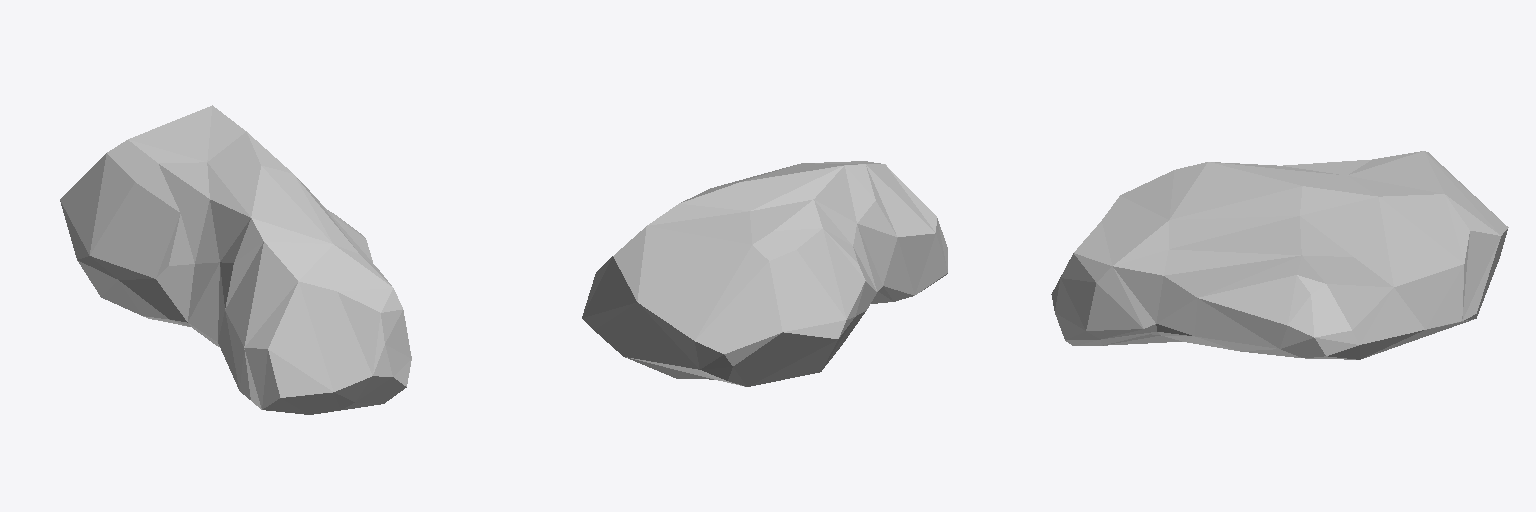
The model's file is rock5.obj.
3 views of the same model, side by side, from view 1: azimuth 30°, elevation 25°; view 2: azimuth 150°, elevation 25°; view 3: azimuth 270°, elevation 25° (orthographic).
Parts seen in each view (by area): view 1: rocks_6_02.001; view 2: rocks_6_02.001; view 3: rocks_6_02.001.
Boxes of the visible parts, x1,y1,x2,y2 form: rocks_6_02.001: [60, 105, 411, 414]; rocks_6_02.001: [582, 161, 947, 386]; rocks_6_02.001: [1051, 151, 1508, 359].
Size of the model in its own units: 4.18 by 2.59 by 6.63.